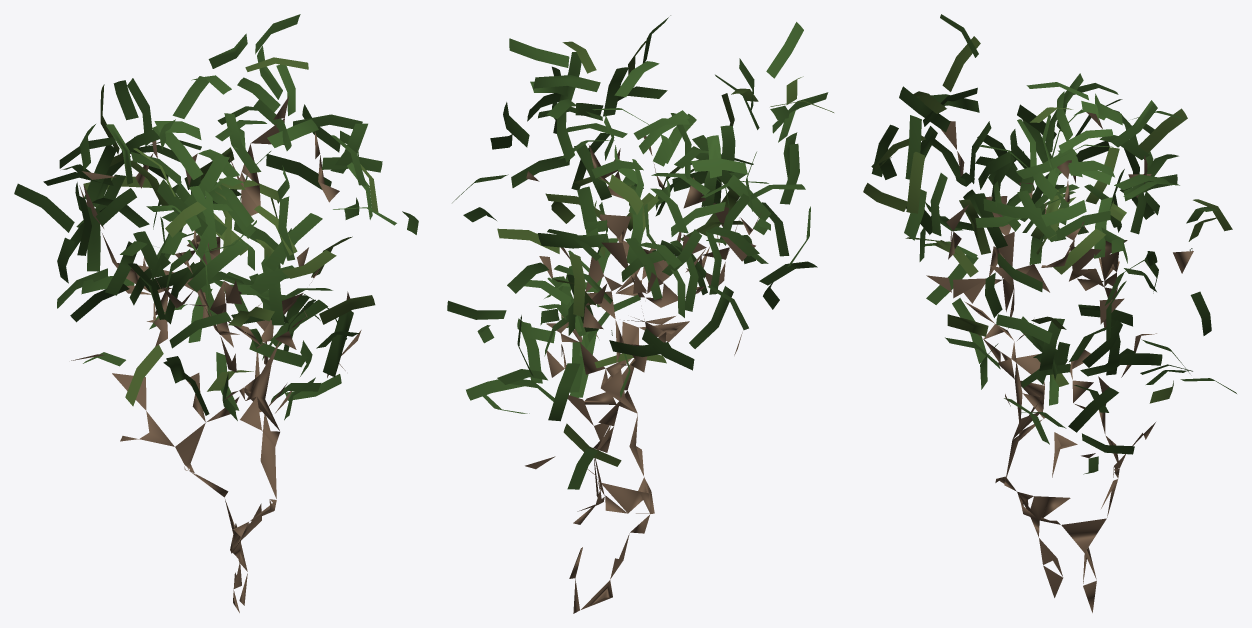
The model's file is arvore_3_longe.glb.
The picture shows the model from 3 angles, left to right: view 1: azimuth 30°, elevation 25°; view 2: azimuth 150°, elevation 25°; view 3: azimuth 270°, elevation 25°; orthographic projection. The views are drawn at different scales.
Visible parts, largest first — view 1: arvore_3_longe; view 2: arvore_3_longe; view 3: arvore_3_longe.
Boxes of the visible parts, x1,y1,x2,y2 form: arvore_3_longe: [14, 14, 418, 612]; arvore_3_longe: [447, 15, 833, 613]; arvore_3_longe: [863, 14, 1236, 612].
Bounding box in the file's own units: 1.74 × 2.66 × 1.69.
